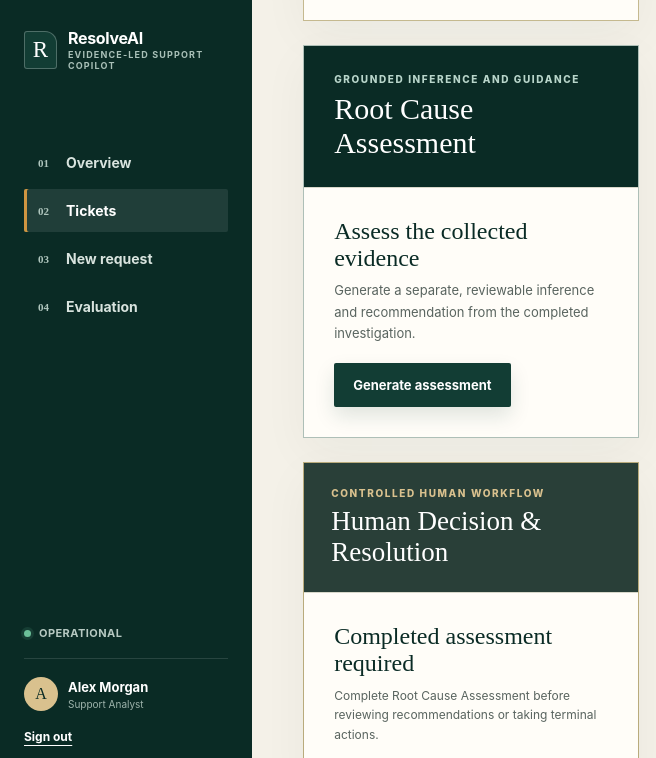
Test: Root Cause Assessment › starts with CSRF and polls only while active
The width and height of the screenshot is (656, 758).
(page scrolled)
Click the button "Generate assessment".
click(422, 385)  # box [334,363,510,407]
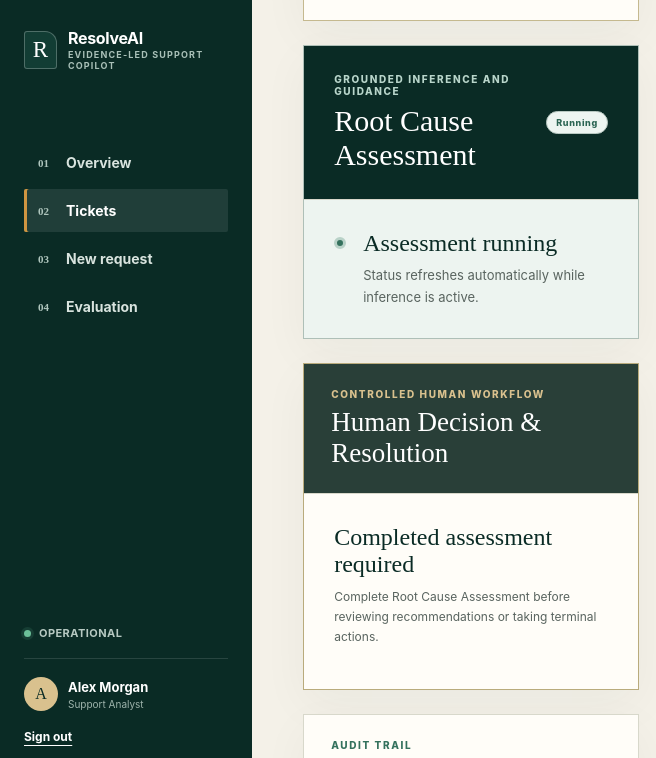
Expected: the heading "Assessment running" is shown, [363,230,557,256]
